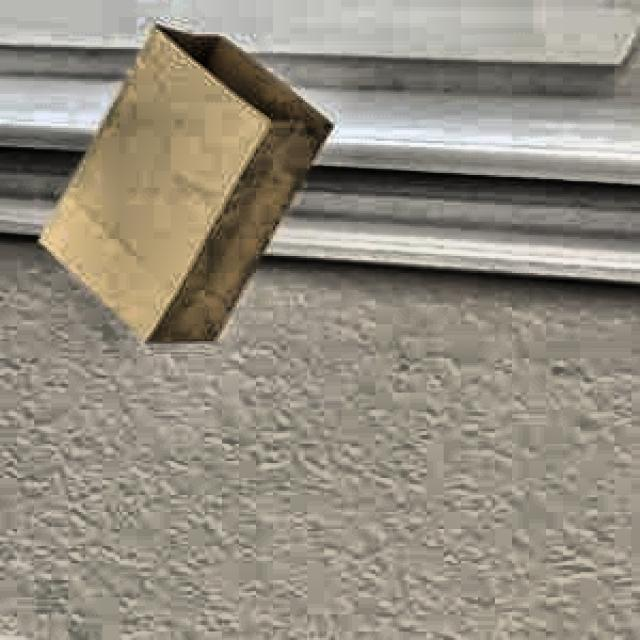Paper-bag: (34, 19, 338, 359)
